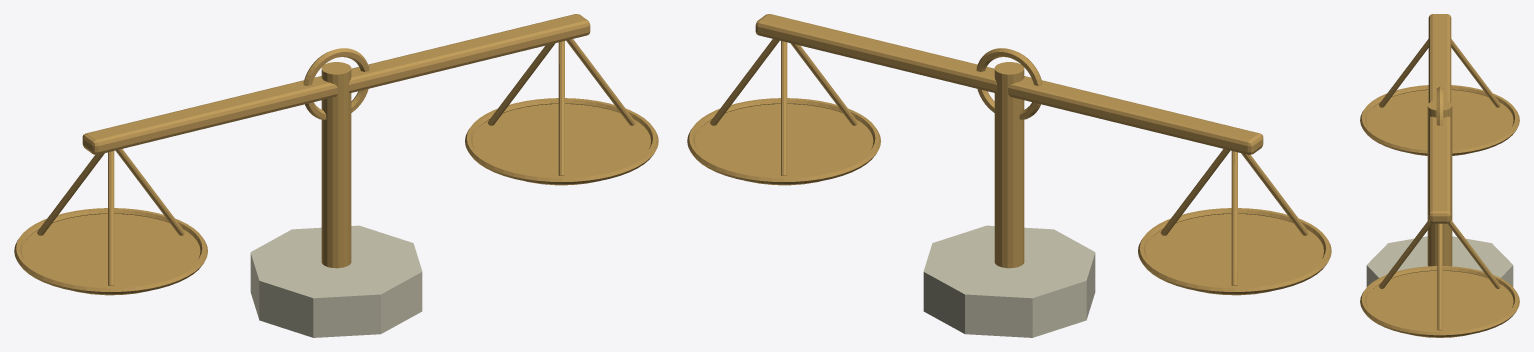
The model's file is scale.fbx.
3 renders of one model, left to right at view 1: azimuth 30°, elevation 25°; view 2: azimuth 150°, elevation 25°; view 3: azimuth 270°, elevation 25°, orthographic. The views are drawn at different scales.
Parts seen in each view (by area): view 1: Scale base, pan_right_Aged brass, pan_left_Aged brass, Equal arm, scale_Aged brass; view 2: Scale base, pan_right_Aged brass, pan_left_Aged brass, Equal arm, scale_Aged brass; view 3: pan_right_Aged brass, pan_left_Aged brass, Equal arm, Scale base, scale_Aged brass.
Part boxes in pixels (x1,y1,x2,y2): Scale base: (250,225,422,337); pan_right_Aged brass: (465,39,658,185); pan_left_Aged brass: (14,149,207,295); Equal arm: (82,14,590,154); scale_Aged brass: (303,48,369,268); Scale base: (923,225,1095,337); pan_right_Aged brass: (687,39,880,185); pan_left_Aged brass: (1138,149,1331,295); Equal arm: (755,14,1263,154); scale_Aged brass: (976,48,1042,268); pan_right_Aged brass: (1360,220,1519,337); pan_left_Aged brass: (1360,39,1519,155); Equal arm: (1428,14,1451,223); Scale base: (1366,236,1513,286); scale_Aged brass: (1427,87,1452,266).
Size of the model in its own units: 522 by 204 by 142.
